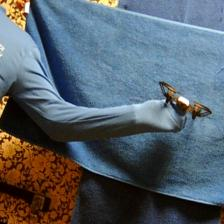drone: (157, 81, 212, 120)
